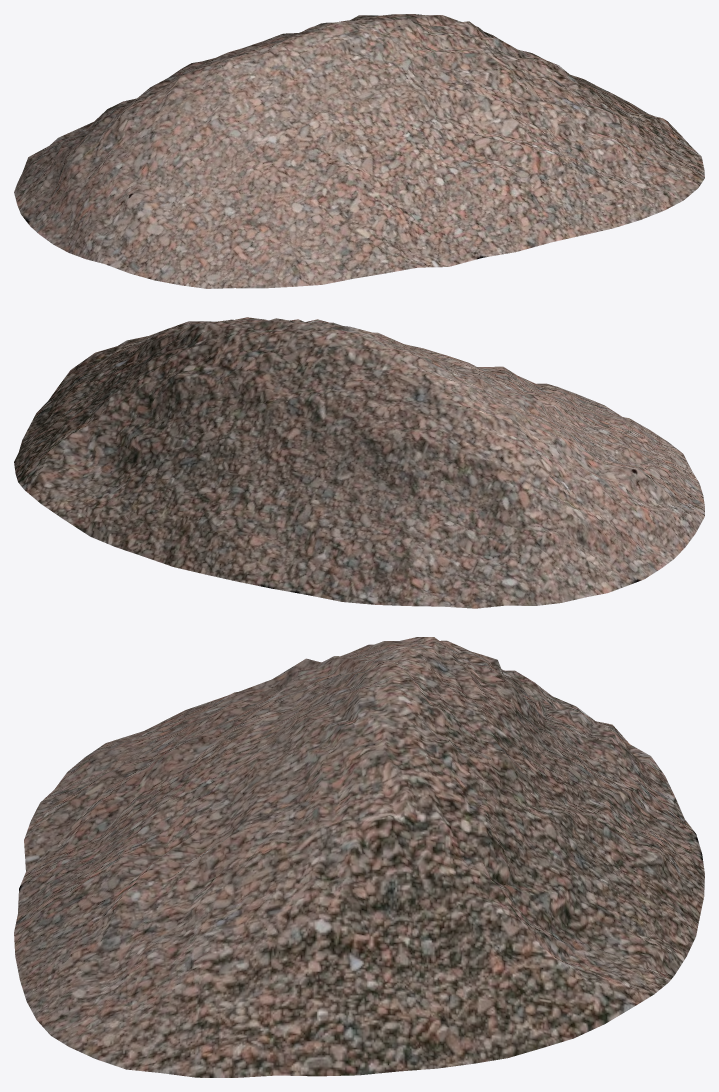
The model's file is rubble.glb.
3 renders of one model, top to bottom at view 1: azimuth 30°, elevation 25°; view 2: azimuth 150°, elevation 25°; view 3: azimuth 270°, elevation 25°, orthographic. The views are drawn at different scales.
Parts seen in each view (by area): view 1: m; view 2: m; view 3: m.
Part boxes in pixels (x1,y1,x2,y2): m: [14, 14, 704, 288]; m: [14, 317, 704, 608]; m: [14, 637, 704, 1077].
Bounding box in the file's own units: 4 × 0.9331 × 2.98.
Materials: 1 (1 with a texture image).
